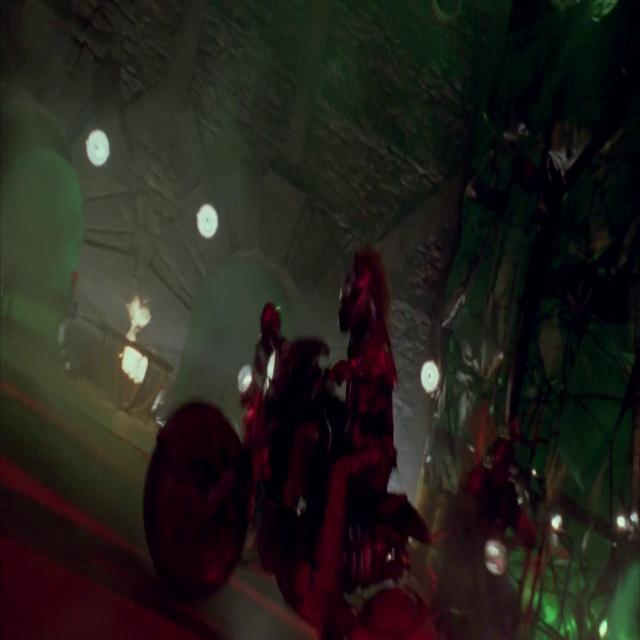Motorbike: (100, 319, 574, 640)
People: (333, 224, 404, 605)
